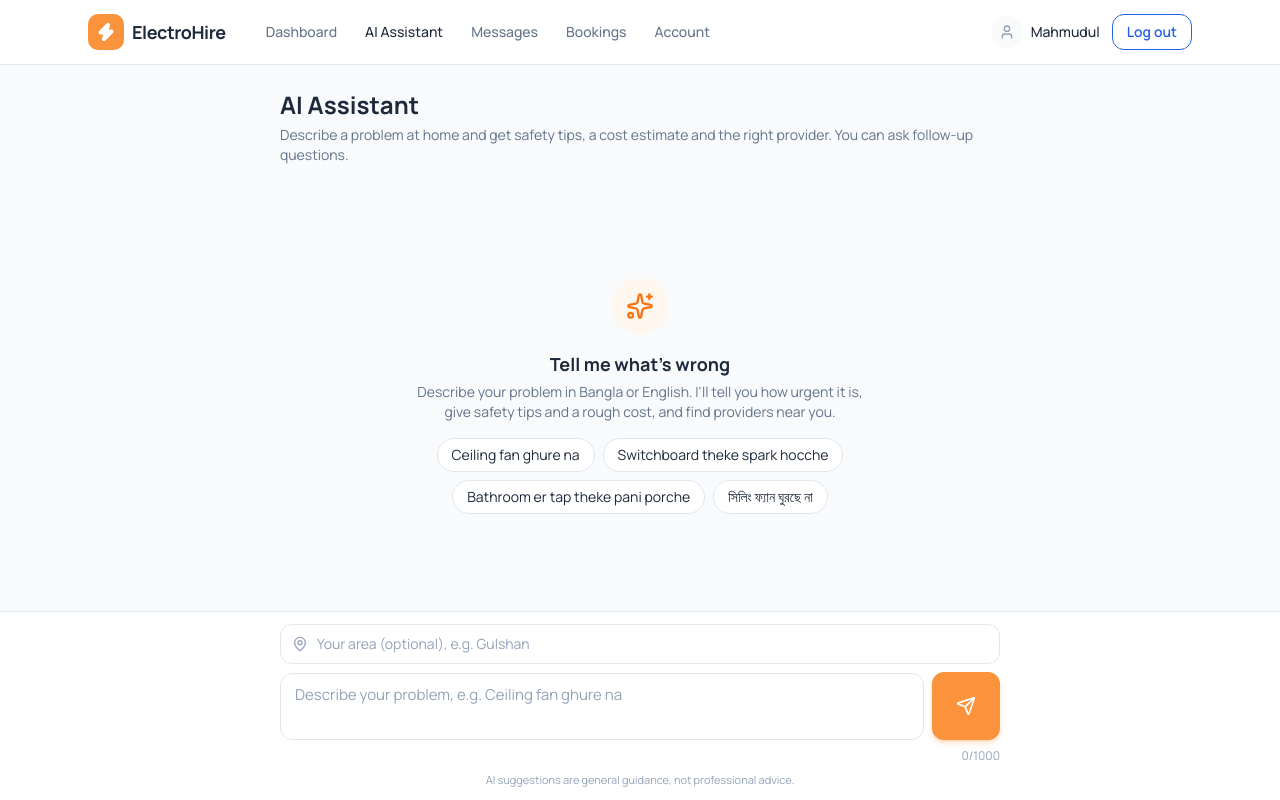
Test case: AI answer sources (Tavily) › shows no sources section when there are none (Tavily off or failed)
In the text box labelled "Describe your problem, e.g. Ceiling fan ghure na": (602, 706) [280,672,924,740], type "Ceiling fan ghure na"
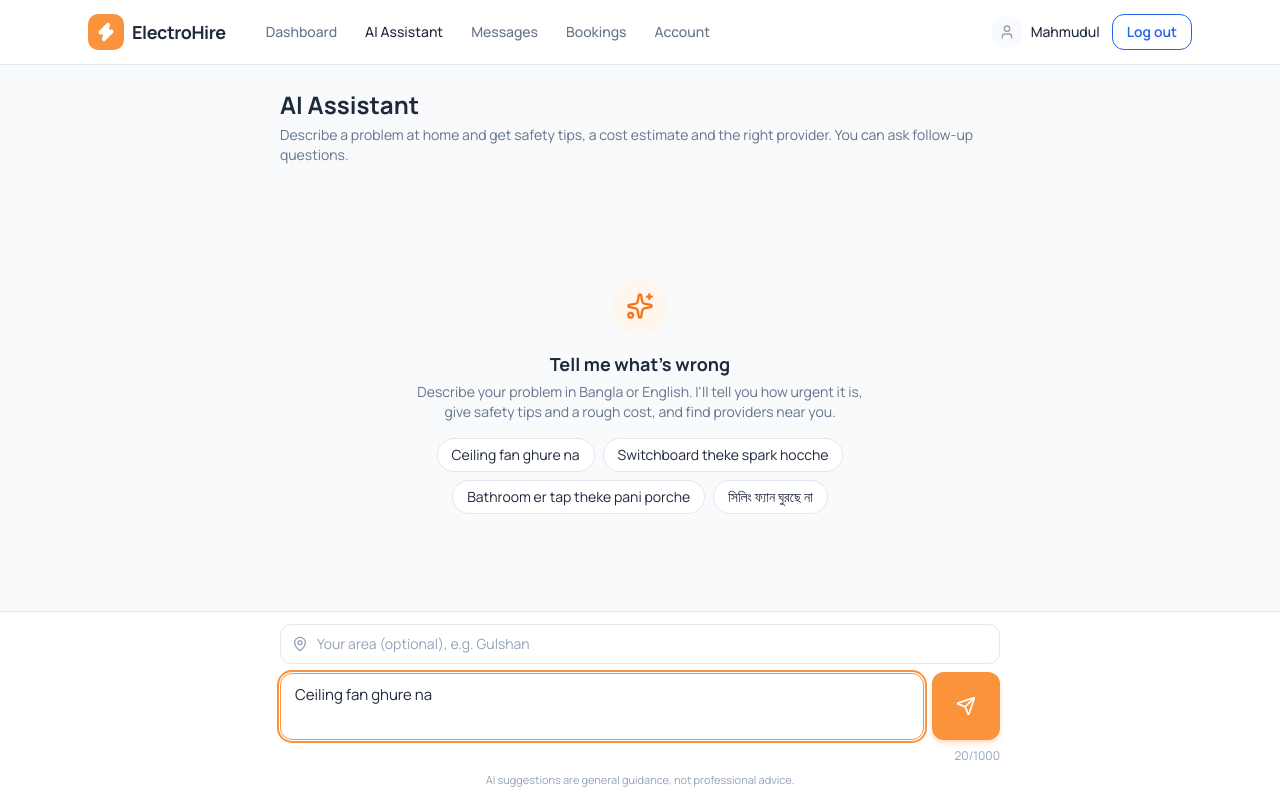
Click the button named "send": (966, 706) [932,672,1000,740]
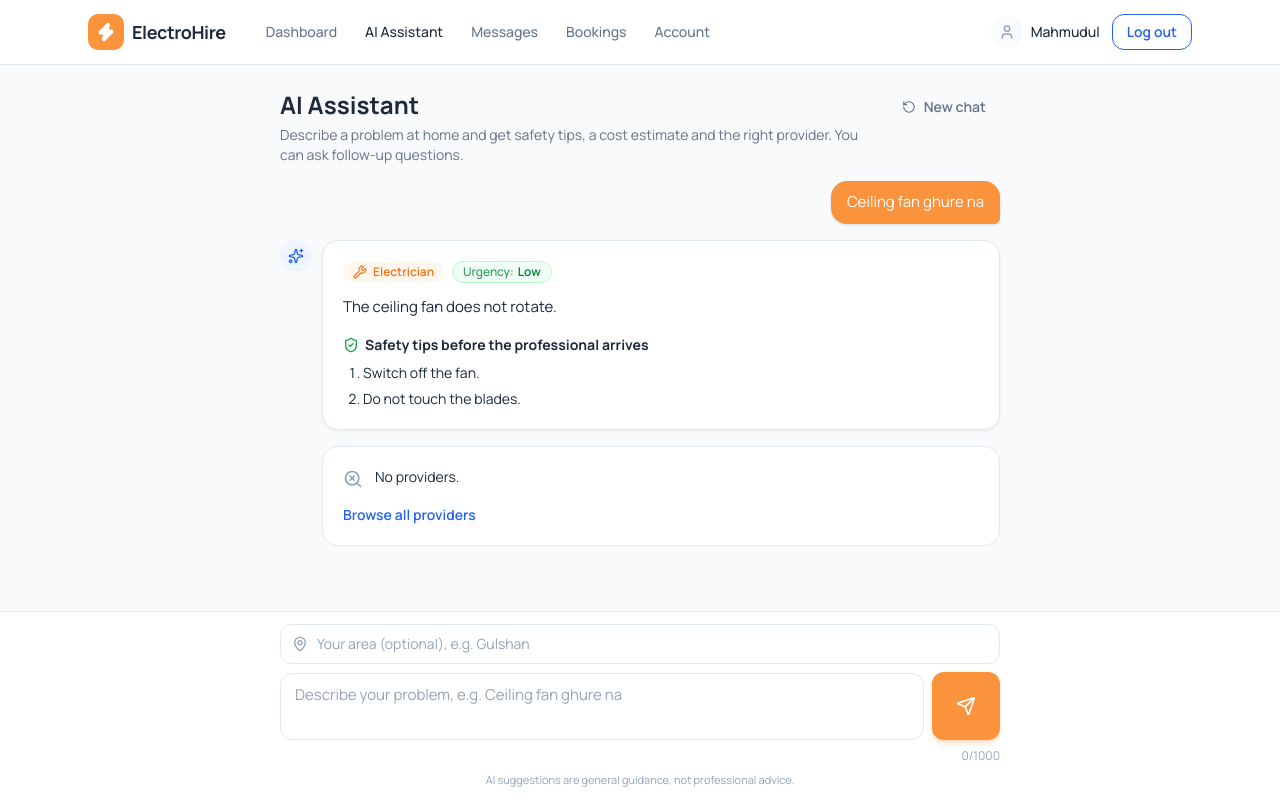
Now the text "The ceiling fan does not rotate." is shown, box [343,296,557,316]
